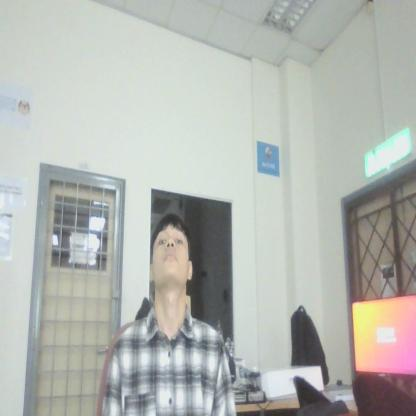Open-Eyes: (156, 232, 184, 249)
